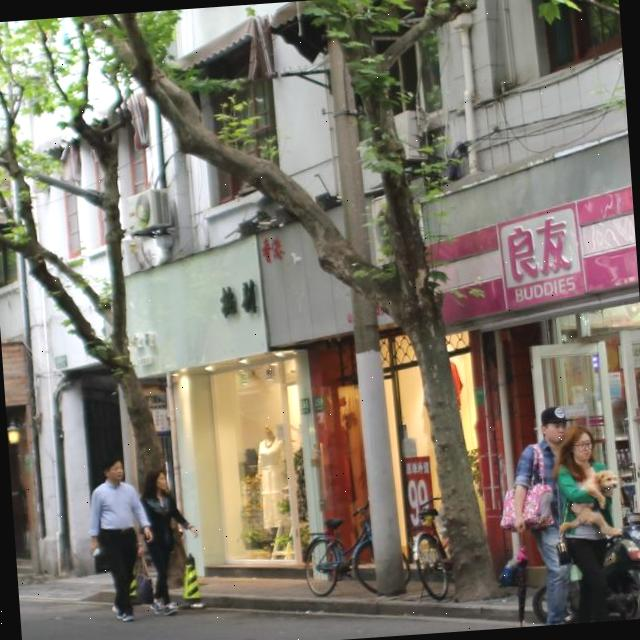curb: (205, 596, 516, 620), (17, 573, 54, 584), (85, 591, 113, 603)
